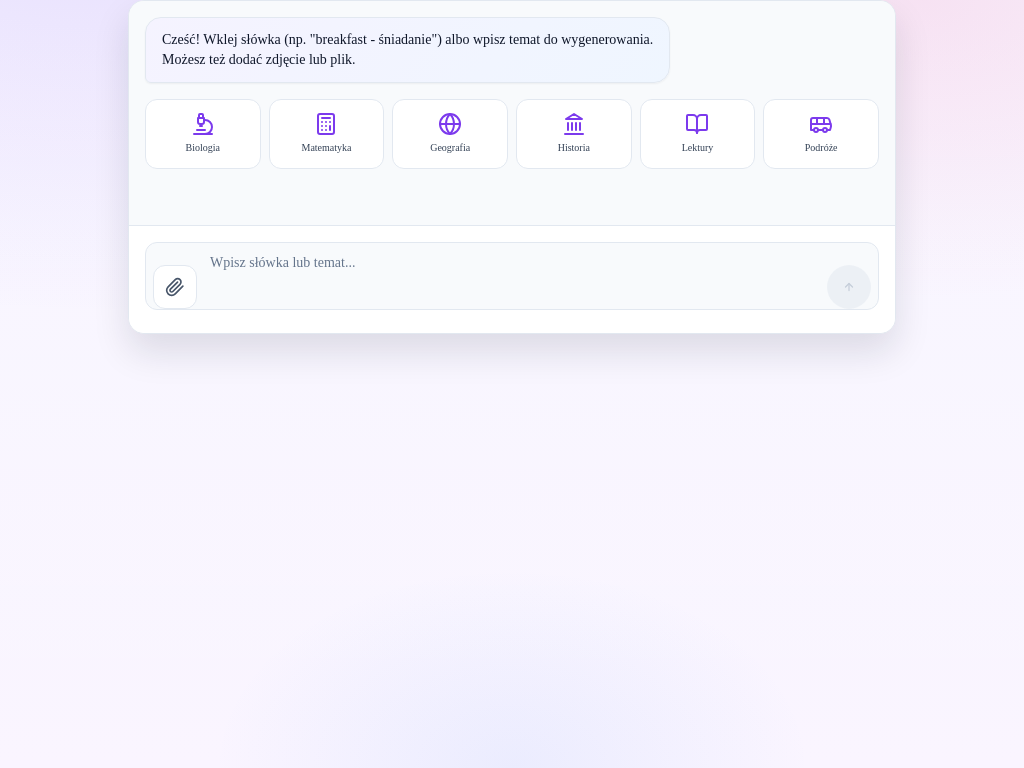
Test: WordIntake › adds parsed words to the library
Type "apple - jablko" into the text box with placeholder "Wpisz słówka lub temat..." at (512, 276), box [145, 242, 879, 310]
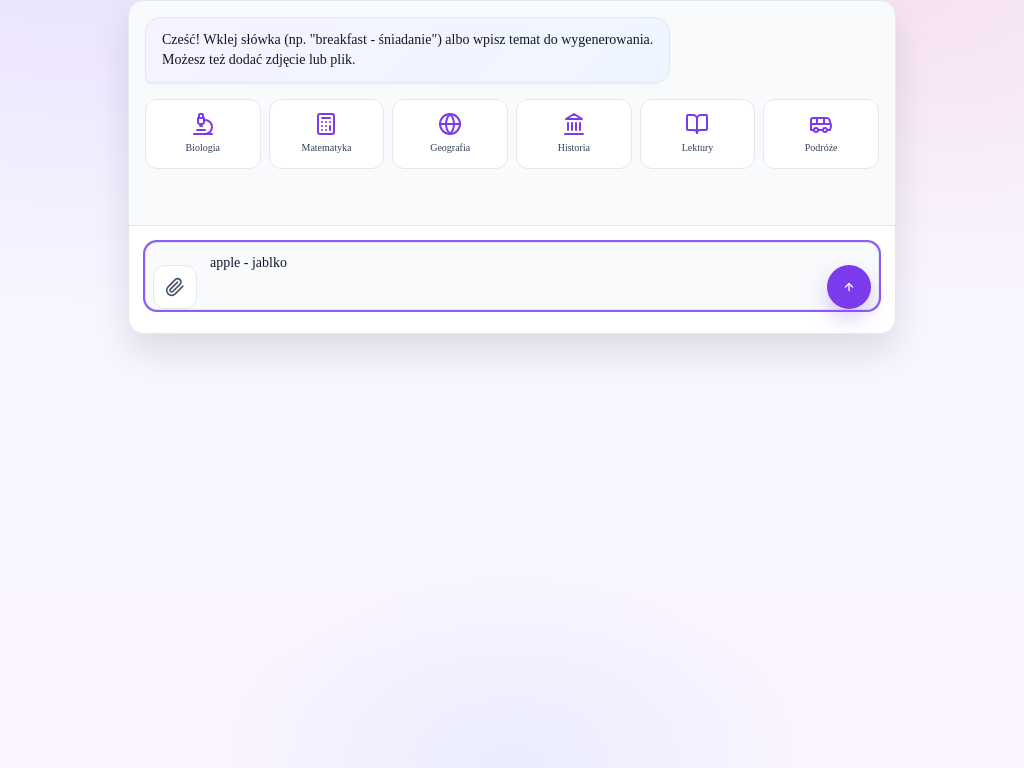
Press Enter
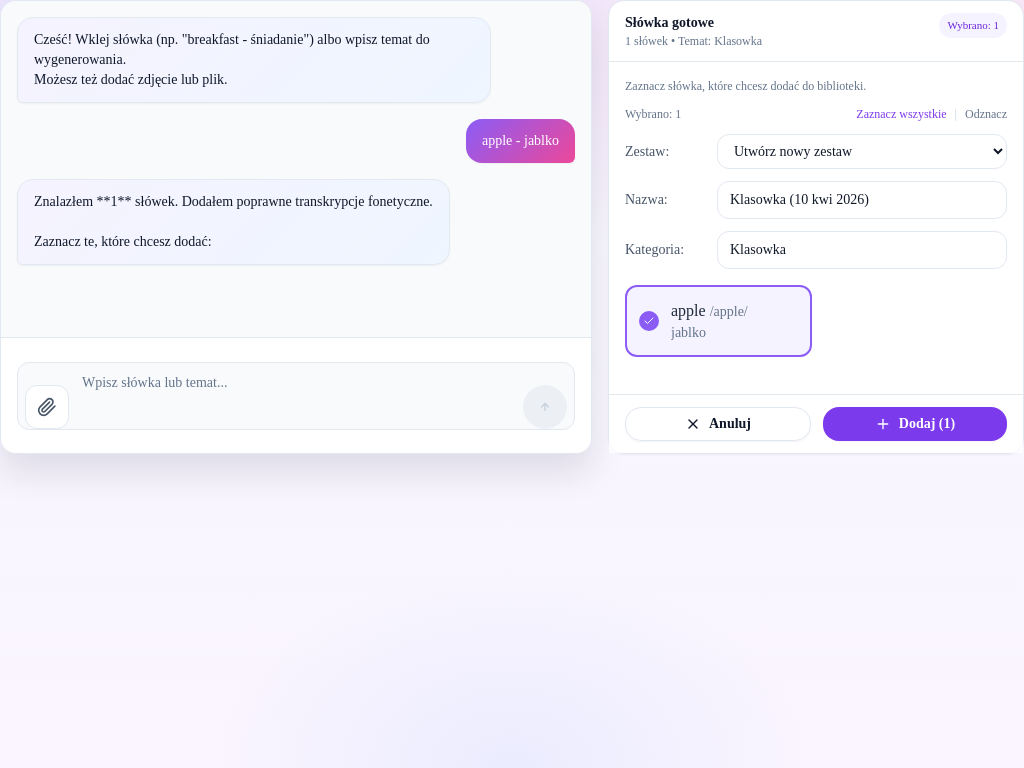
Result: the text "Zaznacz słówka, które chcesz dodać do biblioteki." is shown at [625, 79, 866, 93]
Click the button "Dodaj (1)" at (915, 424), box [823, 407, 1007, 441]
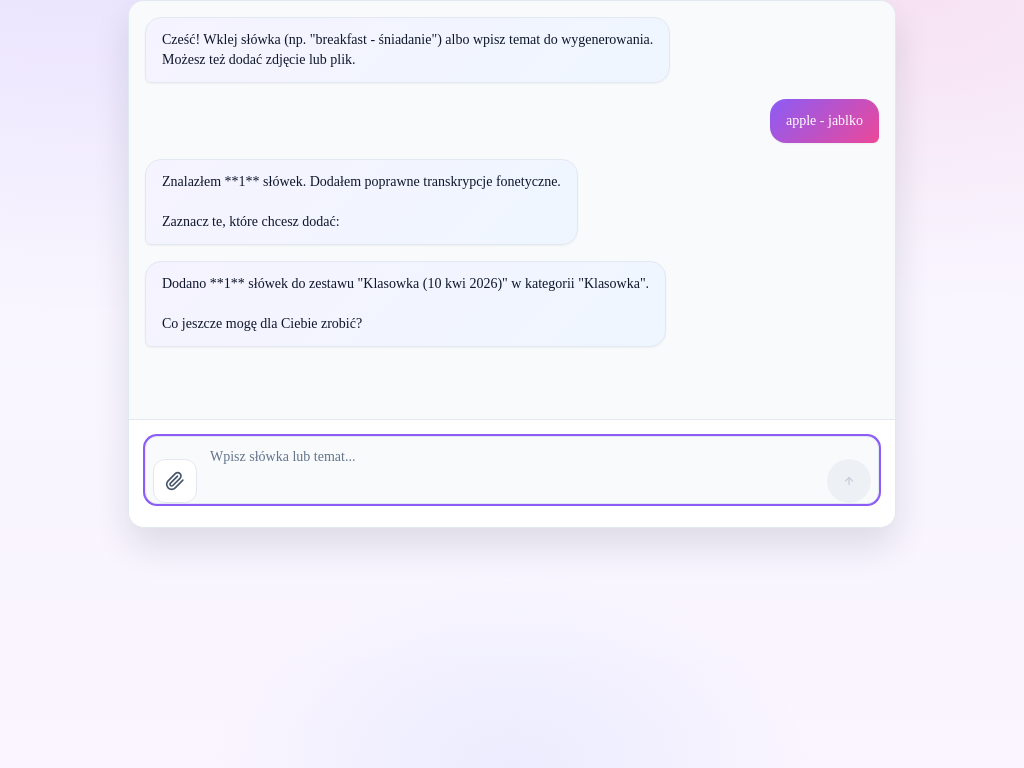
Result: the text "Dodano" is shown at [162, 276, 649, 331]
